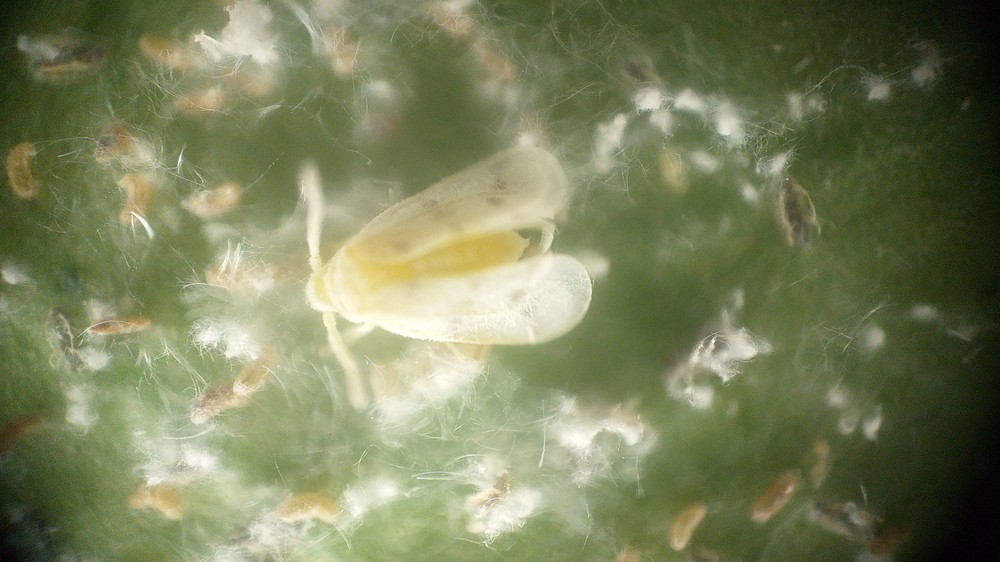Mosca Blanca: (271, 124, 624, 428)
